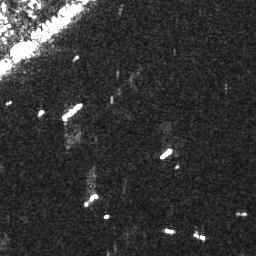ship: (61, 103, 82, 121), (83, 193, 99, 207), (159, 148, 173, 161), (194, 231, 206, 241), (162, 227, 176, 234), (36, 108, 45, 117)
